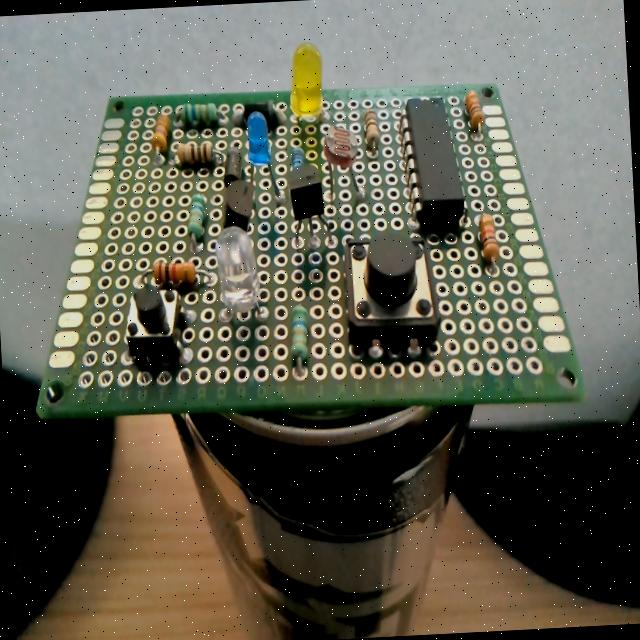IC: (404, 96, 466, 230)
cds: (322, 122, 366, 204)
diode: (238, 99, 282, 130), (220, 146, 250, 186)
led: (214, 226, 262, 314), (288, 42, 326, 119), (243, 112, 276, 182)
resistor: (288, 304, 312, 380), (154, 253, 198, 285), (173, 140, 216, 169), (177, 101, 219, 128), (478, 213, 499, 266), (464, 89, 485, 140), (187, 192, 208, 240), (150, 112, 171, 154), (363, 110, 380, 154)
switch: (343, 232, 441, 350), (124, 282, 184, 362)
transistor: (286, 153, 333, 250), (218, 178, 260, 236)
